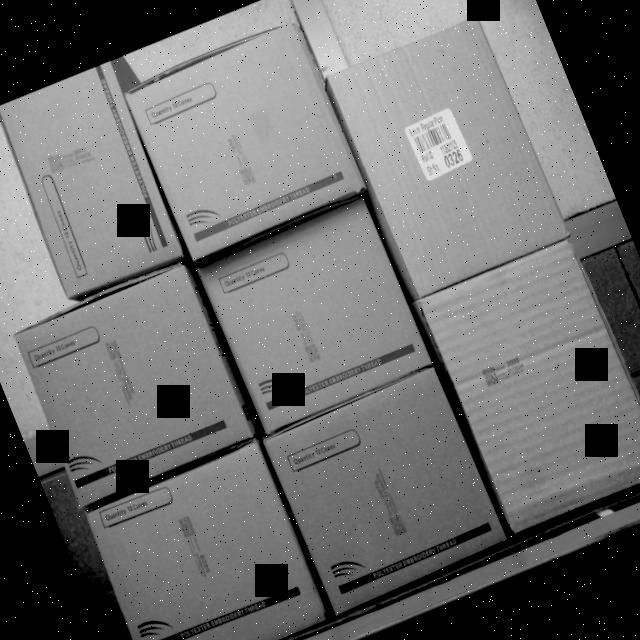box: (322, 7, 568, 294), (416, 231, 640, 533), (123, 17, 370, 262), (261, 365, 504, 606), (194, 195, 431, 432), (17, 266, 250, 495), (83, 439, 325, 640), (0, 59, 188, 301)
